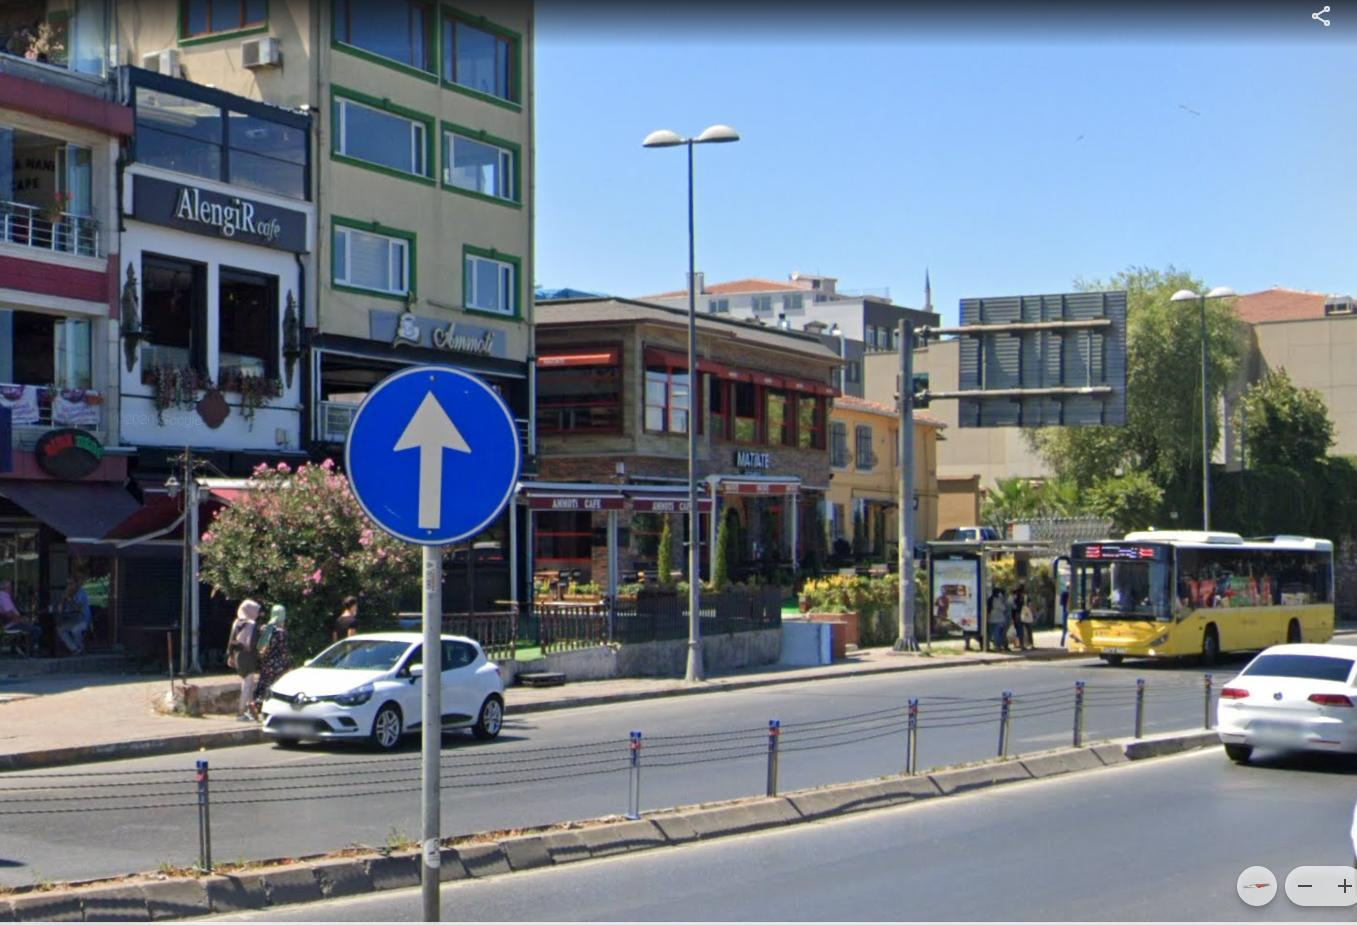forward: (353, 371, 521, 537)
